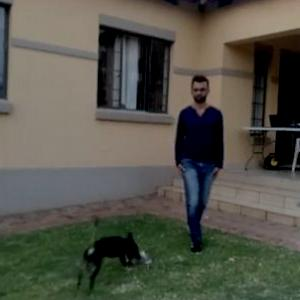follow: (167, 76, 221, 240)
